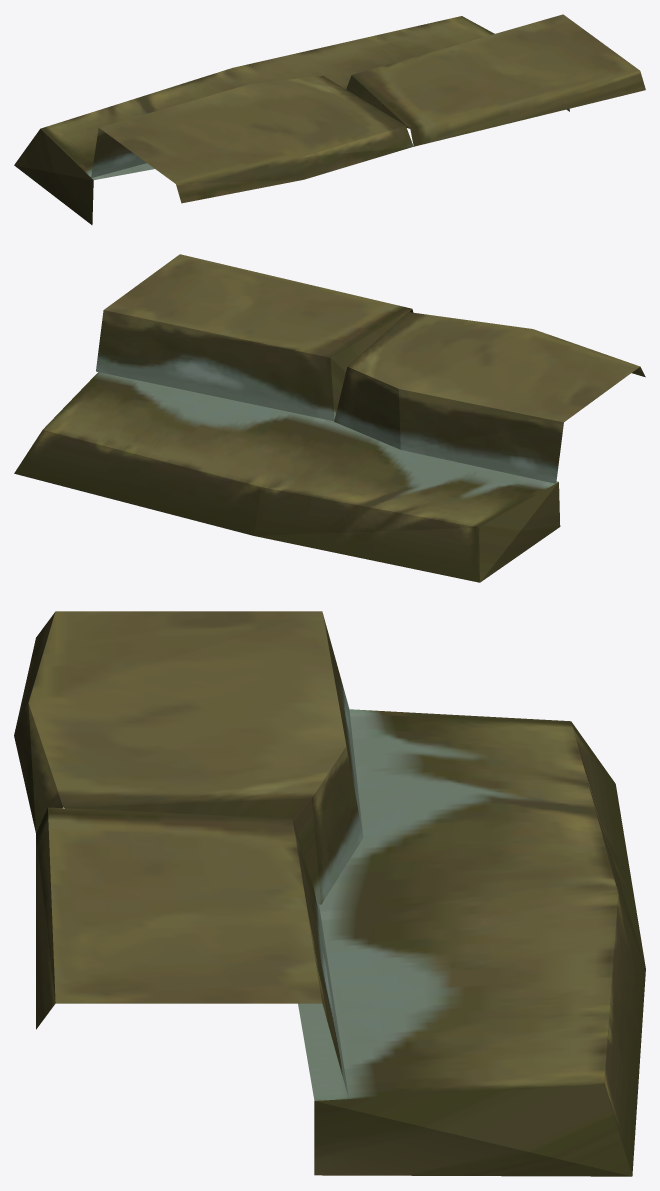
The model's file is tundra_negdias_straight_01_noshadow.fbx.
The picture shows the model from 3 angles, top to bottom: view 1: azimuth 30°, elevation 25°; view 2: azimuth 150°, elevation 25°; view 3: azimuth 270°, elevation 25°; orthographic projection. The views are drawn at different scales.
Visible parts, largest first — view 1: obj0.133; view 2: obj0.133; view 3: obj0.133.
Boxes of the visible parts, x1,y1,x2,y2 form: obj0.133: [14, 14, 645, 224]; obj0.133: [14, 254, 645, 582]; obj0.133: [14, 611, 645, 1176].
Size of the model in its own units: 4.05 by 0.8653 by 2.72.
